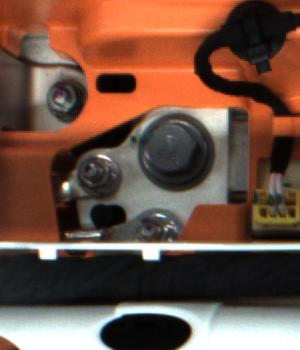nut_b: (129, 113, 220, 196)
screw_s: (70, 150, 124, 196), (43, 81, 82, 119), (136, 212, 175, 242)
